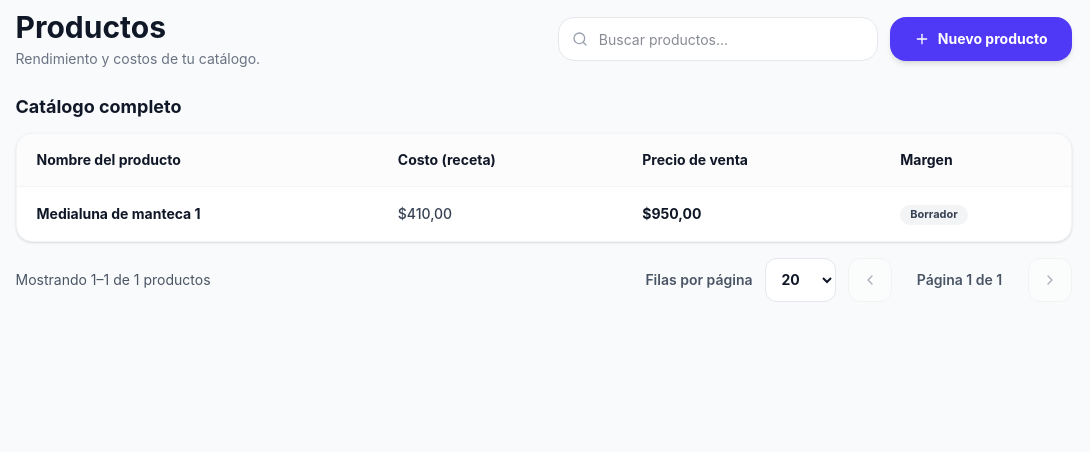
ProductsPage - paginación y búsqueda en la API (#350) › una búsqueda sin resultados muestra el término buscado
In the field named "Buscar productos por nombre": (718, 39) [558,17,878,61], type "chipa"
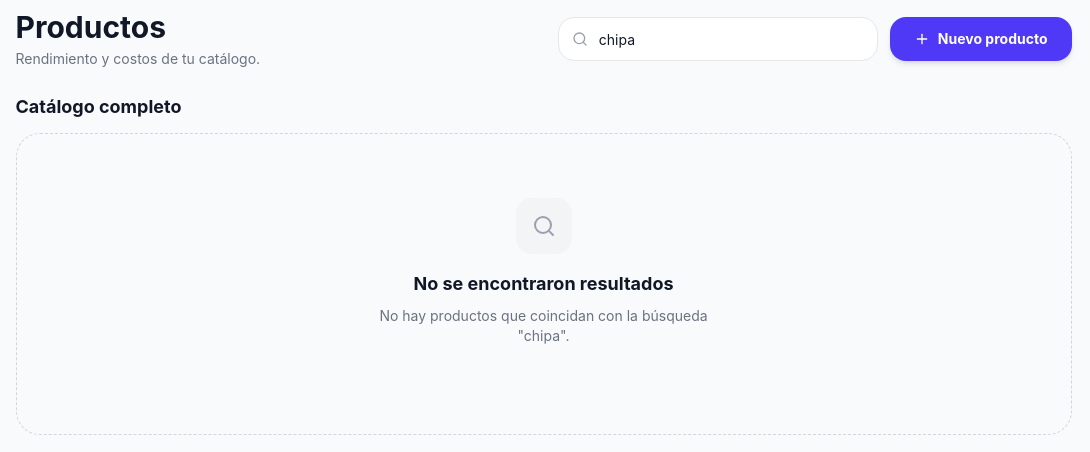
Check: the text "No hay productos que coincidan con la búsqueda \"chipa\"." is shown, box [352,306,736,346]
